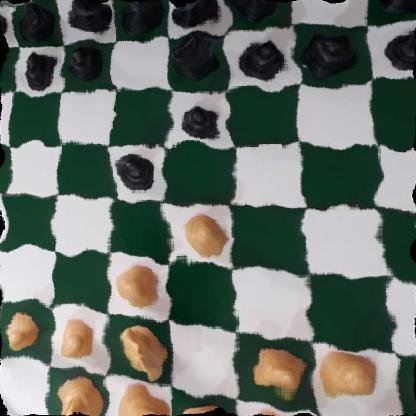black-bishop: (71, 0, 114, 38), (229, 0, 281, 22)
black-king: (169, 0, 222, 34)
black-knight: (170, 33, 227, 83), (18, 0, 58, 45)
black-pawn: (304, 30, 357, 78), (238, 36, 291, 80), (177, 99, 224, 145), (381, 25, 416, 74), (115, 151, 153, 194), (24, 48, 61, 84), (70, 45, 105, 79), (0, 48, 13, 86)
black-queen: (117, 0, 164, 37)
black-rook: (0, 0, 16, 42), (370, 0, 416, 12)
white-bishop: (55, 370, 102, 416), (249, 404, 312, 416)
white-king: (179, 396, 232, 416)
white-knight: (120, 321, 165, 381)
white-pawn: (318, 344, 378, 406), (247, 343, 304, 400), (116, 257, 162, 311), (176, 212, 226, 260), (56, 313, 102, 365), (5, 311, 43, 353), (413, 362, 416, 416)
white-queen: (112, 376, 173, 416)
